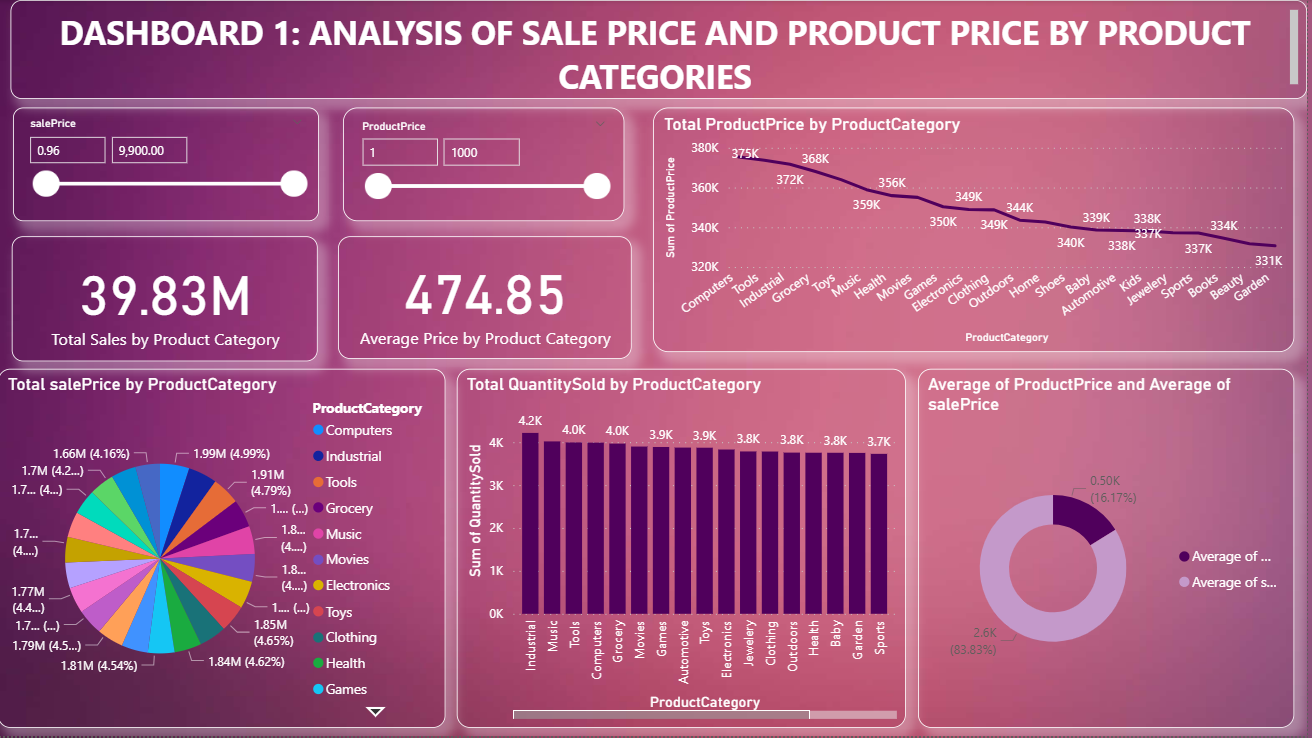

This screenshot's page, from the dashboard's own definition file:
{"tool":"powerbi","page":{"name":"DASHBOARD 1: ANALYSIS OF SALE PRICE AND PRODUCT PRICE BY PRODUCT CATEGORIES","canvas":[1280,720],"ordinal":0},"visuals":[{"type":"pieChart","title":"Total salePrice by ProductCategory","fields":{"Category":["E-Commerce Dataset.ProductCategory"],"Y":["Sum(E-Commerce Dataset.salePrice)"]},"box":[0,360.6,437.6,350.8],"z":0},{"type":"clusteredColumnChart","title":"Total QuantitySold by ProductCategory","fields":{"Y":["Sum(E-Commerce Dataset.QuantitySold)"],"Category":["E-Commerce Dataset.ProductCategory"]},"box":[448.6,360.6,438.8,350.8],"z":1000},{"type":"lineChart","title":"Total ProductPrice by ProductCategory","fields":{"Category":["E-Commerce Dataset.ProductCategory"],"Y":["Sum(E-Commerce Dataset.ProductPrice)"]},"box":[640.5,105.1,627.1,239.6],"z":2000},{"type":"donutChart","fields":{"Y":["Avg(E-Commerce Dataset.ProductPrice)","Avg(E-Commerce Dataset.salePrice)"]},"box":[899.7,360.6,367.9,350.8],"z":3000},{"type":"card","fields":{"Values":["E-Commerce Dataset.Total Sales by Product Category"]},"box":[13.4,231,299.5,122.2],"z":4000},{"type":"card","fields":{"Values":["E-Commerce Dataset.Average Price by Product Category"]},"box":[332.5,231,287.3,119.8],"z":5000},{"type":"slicer","fields":{"Values":["E-Commerce Dataset.salePrice"]},"box":[14.7,105.1,299.5,111.2],"z":6000},{"type":"slicer","fields":{"Values":["E-Commerce Dataset.ProductPrice"]},"box":[337.4,105.1,275,111.2],"z":7000},{"type":"textbox","box":[12.2,0,1267.6,96.6],"z":8000}]}

Visuals, with their boxes in screenshot pixels (x1, y1, x2, y2), scaled from the page's 1280x720 canvas onto the 1312x738 screenshot:
"Total salePrice by ProductCategory" pieChart: (0, 370, 449, 729)
"Total QuantitySold by ProductCategory" clusteredColumnChart: (460, 370, 910, 729)
"Total ProductPrice by ProductCategory" lineChart: (657, 108, 1299, 353)
donutChart - Avg(E-Commerce Dataset.ProductPrice) x Avg(E-Commerce Dataset.salePrice): (922, 370, 1299, 729)
card - E-Commerce Dataset.Total Sales by Product Category: (14, 237, 321, 362)
card - E-Commerce Dataset.Average Price by Product Category: (341, 237, 635, 360)
slicer - E-Commerce Dataset.salePrice: (15, 108, 322, 222)
slicer - E-Commerce Dataset.ProductPrice: (346, 108, 628, 222)
textbox: (13, 0, 1311, 99)
